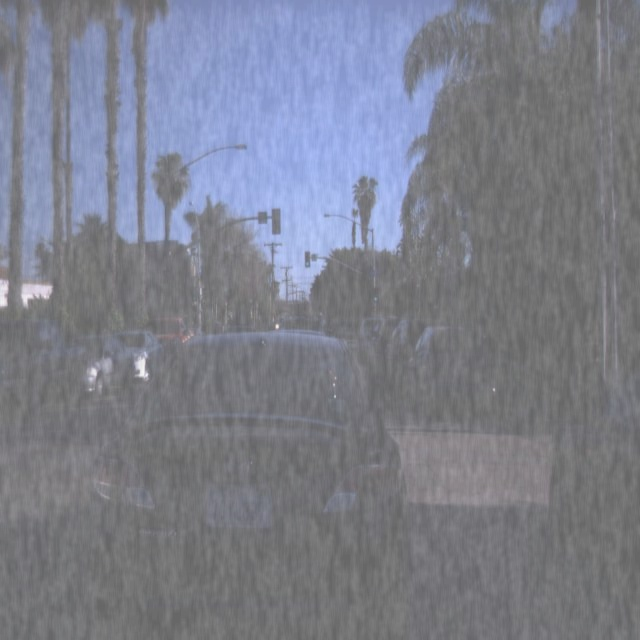go: (372, 284, 381, 304), (190, 282, 199, 302), (304, 248, 312, 268)
go traffic light: (372, 284, 381, 304), (190, 282, 199, 302), (304, 248, 312, 268)
